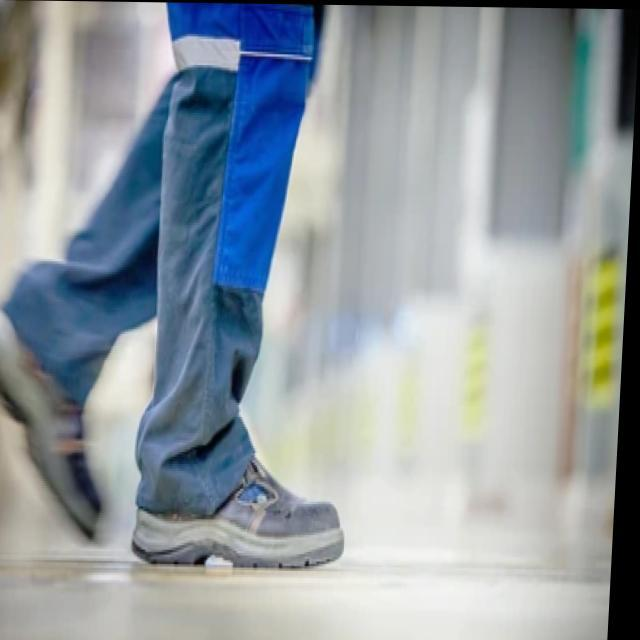boots: (0, 261, 366, 581)
